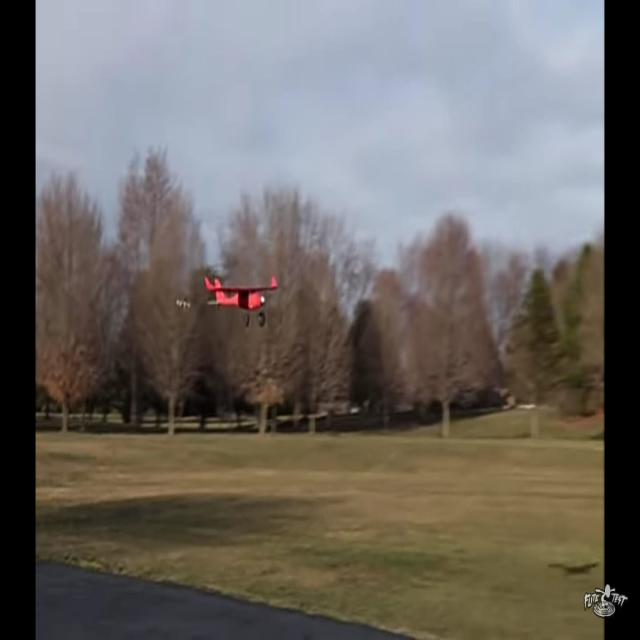iha: (206, 272, 247, 329)
